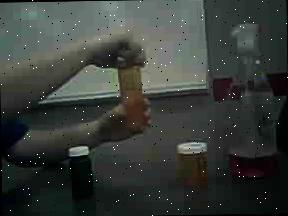Bottle A: (88, 25, 166, 148)
Bottle B: (174, 136, 216, 190)
Bottle C: (60, 140, 107, 209)
hazard: (214, 11, 288, 185)
